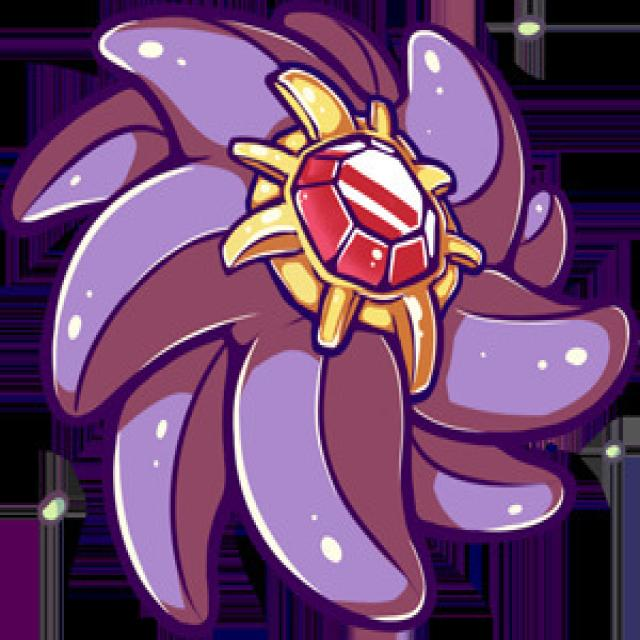Starmie: (10, 0, 627, 640)
